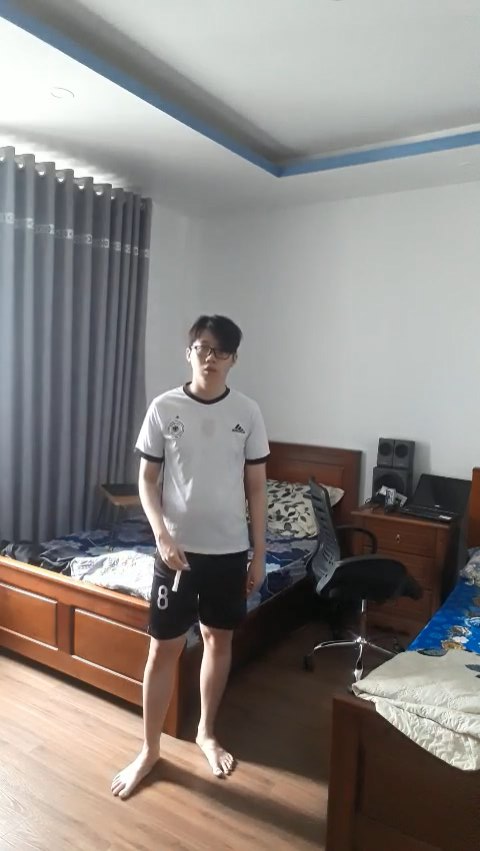cigarette: (172, 568, 182, 593)
person: (93, 304, 287, 800)
